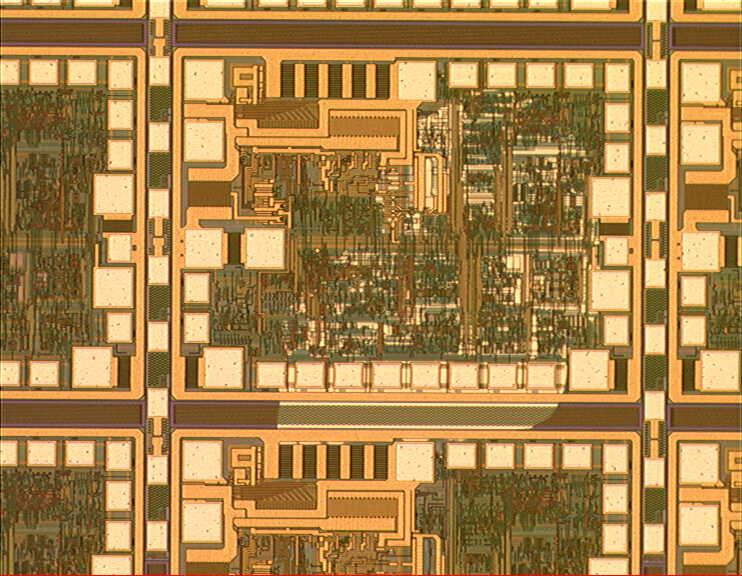COATING BAD: (235, 89, 612, 511)
